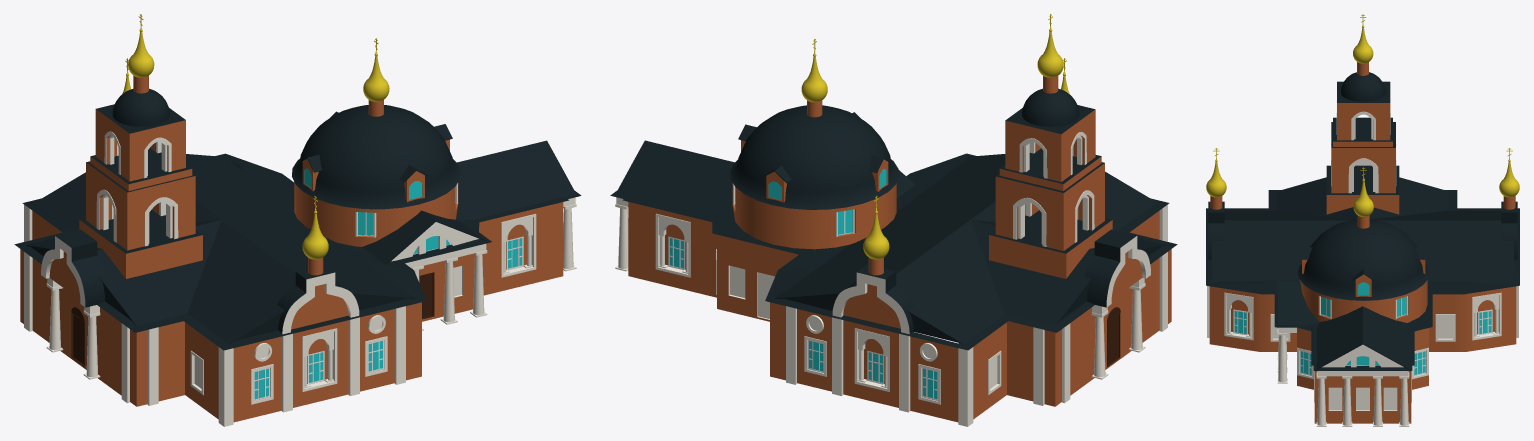
Rendered from Hram_FBX.FBX.
3 views of the same model, side by side, from view 1: azimuth 30°, elevation 25°; view 2: azimuth 150°, elevation 25°; view 3: azimuth 270°, elevation 25° (orthographic). The views are drawn at different scales.
Visible parts, largest first — view 1: Hram; view 2: Hram; view 3: Hram.
Part boxes in pixels (<box>): Hram: <box>14,14,581,426</box>; Hram: <box>610,14,1177,426</box>; Hram: <box>1206,14,1519,426</box>.
Size of the model in its own units: 34.08 by 22.42 by 24.42.
